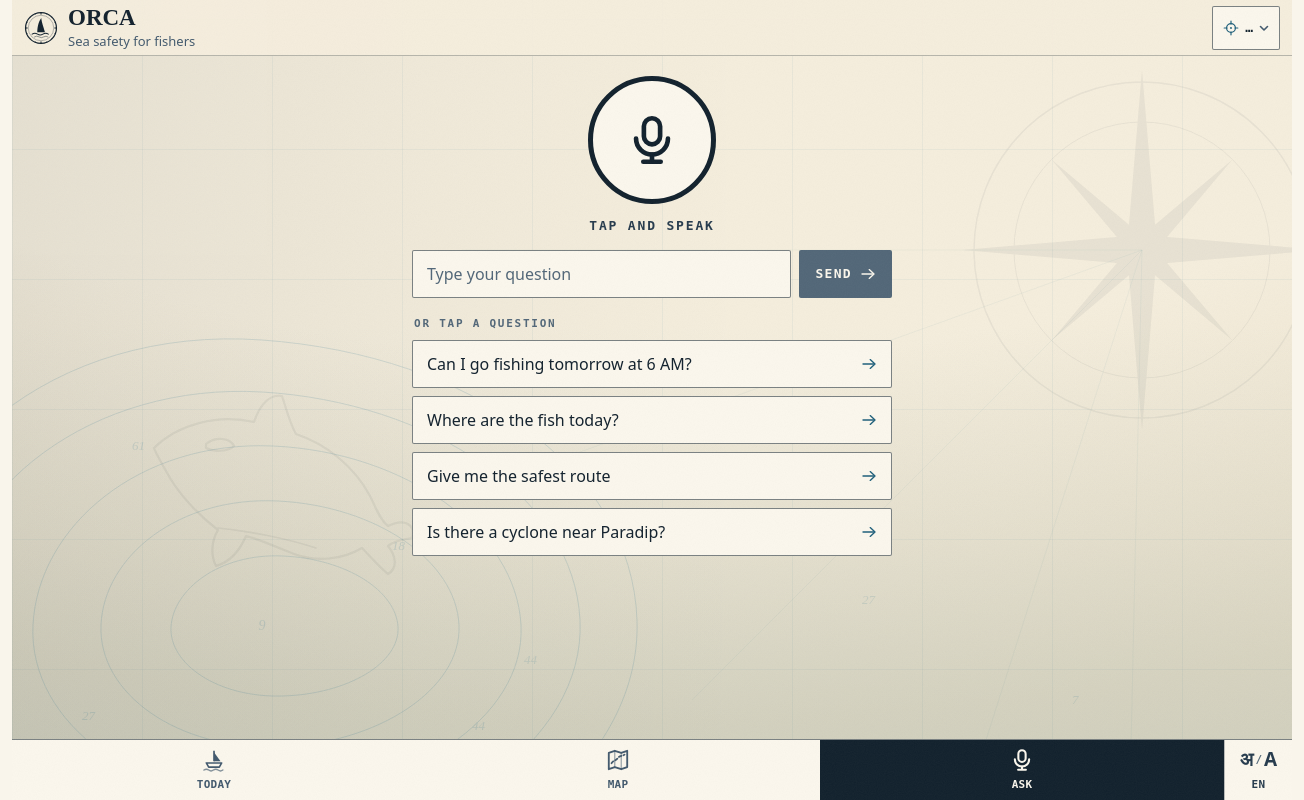
Test: the phone's Ask tab › by voice › says nothing was heard, and asks nothing, when listening ends in silence
The image size is (1304, 800).
Click the button named "Ask by voice" at [652, 140], box [588,76,716,204]
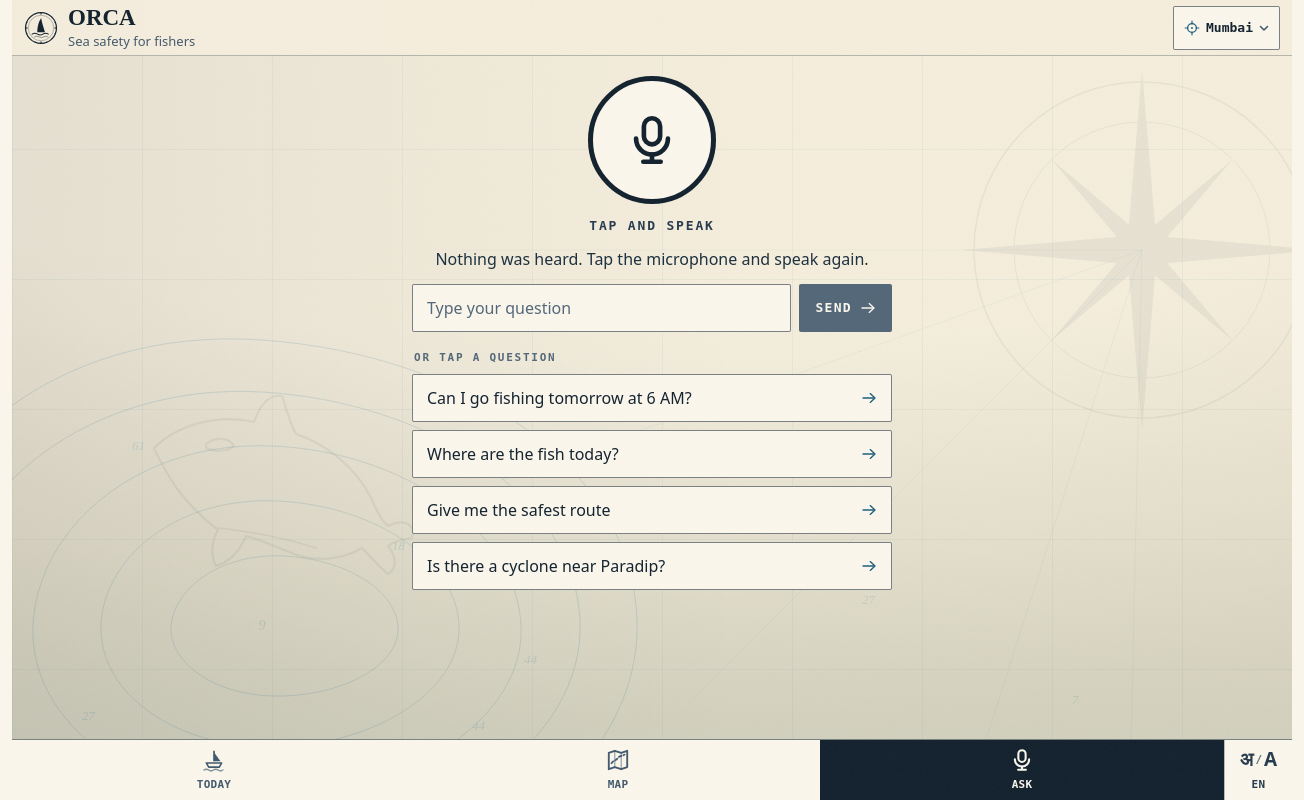
expect the text "Nothing was heard. Tap the microphone and speak again." is shown: met, box [435,248,869,270]
